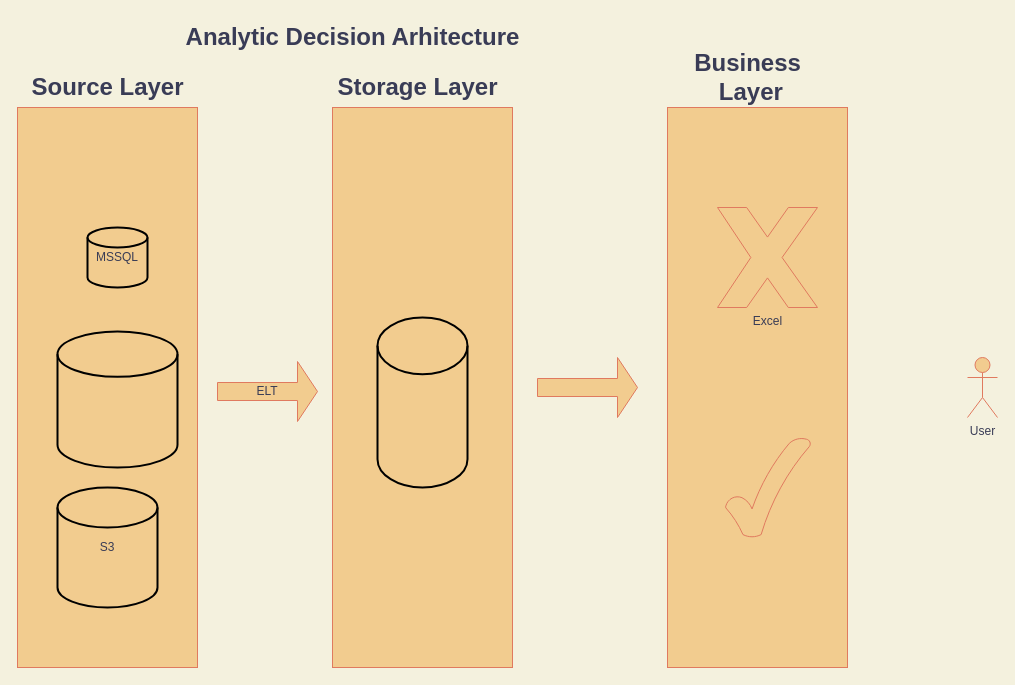
The diagram is 1015 pixels wide and 685 high, and some of its shapes have lost their labels. Each missing label, with the centre of its shape:
Datawarehouse: [422,402]
MySQL: [117,399]
PowerBI Deskstop: [767,487]
